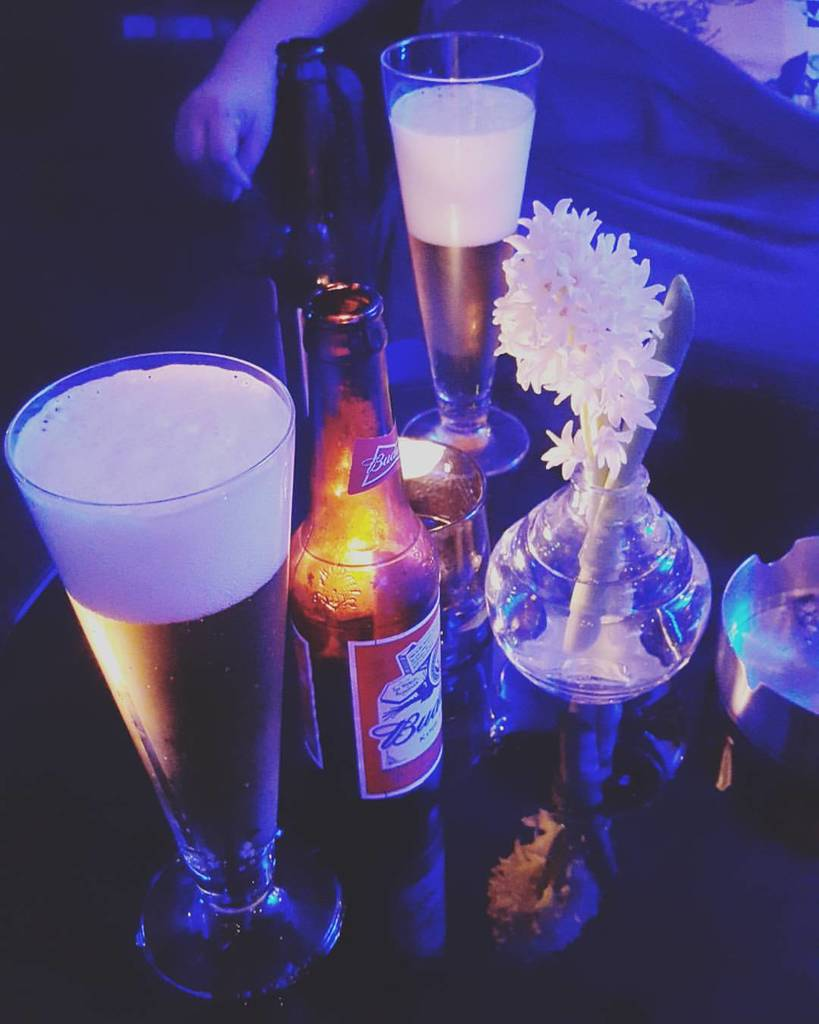Beer: (0, 322, 336, 1016), (376, 28, 539, 522), (303, 267, 448, 821)
